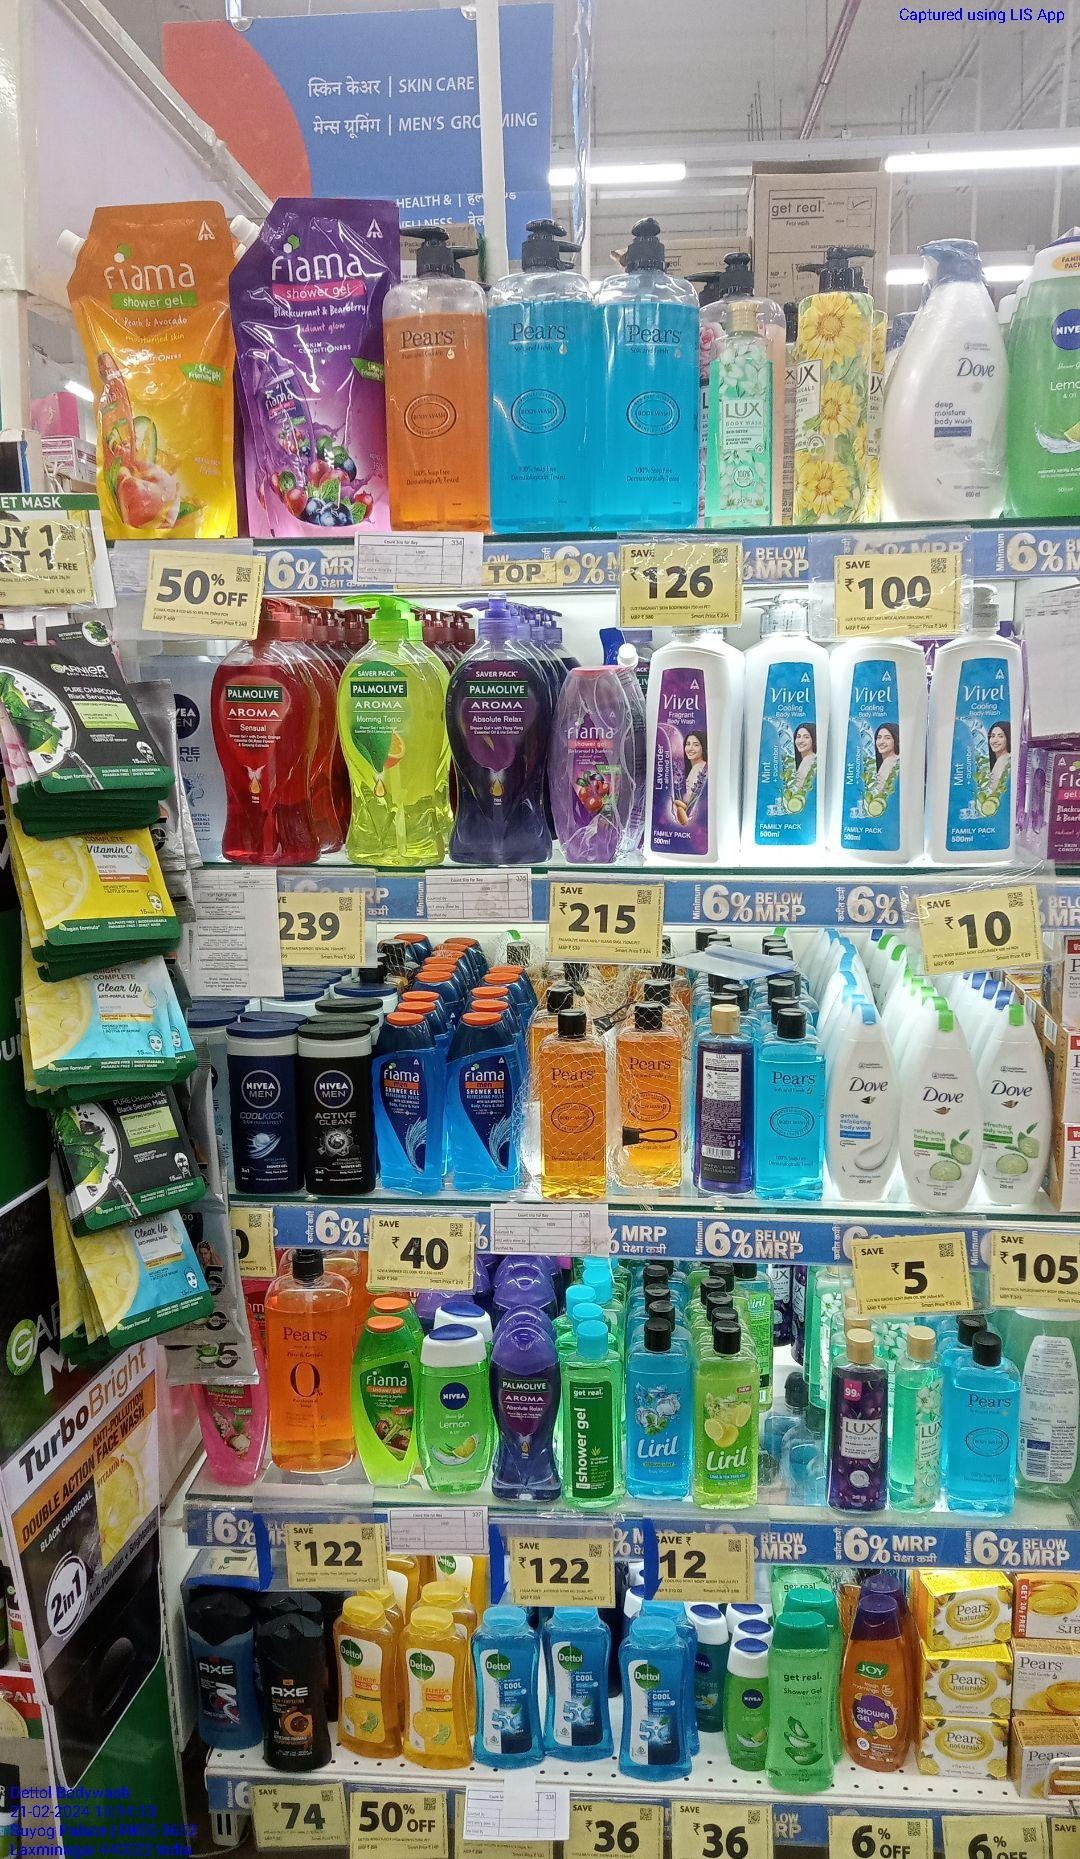Dettol_Bodywash_Cool: (471, 1604, 540, 1768), (544, 1603, 616, 1759), (624, 1620, 690, 1778)
Dettol_Bodywash_Refresh: (396, 1604, 467, 1768), (336, 1597, 393, 1760)
Dove_Gentle_Exfoliating_Body_Wash_250ML: (831, 1005, 894, 1199)
Dove_Refreshing_Body_Wash_250ML: (903, 1009, 980, 1211), (986, 1012, 1048, 1201)
Fiama_Shower_Gel_Lemongrass_and_Jojoba_250ML: (348, 1316, 409, 1485)
Fiama_Shower_Gel_Patchouli_and_Macadamia_250ML: (197, 1383, 270, 1481)
Joy_Shower_Gel_Mandarin_and_Lemongrass_250ML: (842, 1594, 909, 1769)
Liril_Cooling_Mint_Body_Wash_250ML: (626, 1323, 688, 1499)
Liril_Lime_and_Tea_Tree_Oil_Body_Wash_250ML: (693, 1327, 756, 1509)
Lux_Black_Orchid_Scent_and_Juniper_Oil_Body_Wash_245ML: (831, 1327, 886, 1512)
Lux_Body_Wash_Skin_Detox_Freesia_Scent_and_Alove_Vera_245ML: (708, 311, 778, 534), (892, 1328, 939, 1513)
Nivea_Shower_Gel_Lemon_and_Oil_250ML: (1009, 239, 1080, 522), (417, 1329, 483, 1495)
Palmolive_Aroma_Relax_250ML: (490, 1327, 562, 1507)
Pears_Pure_Glycerin_and_Mint_Extracts_Body_Wash_250ML: (755, 1000, 828, 1198), (942, 1334, 1017, 1516)
